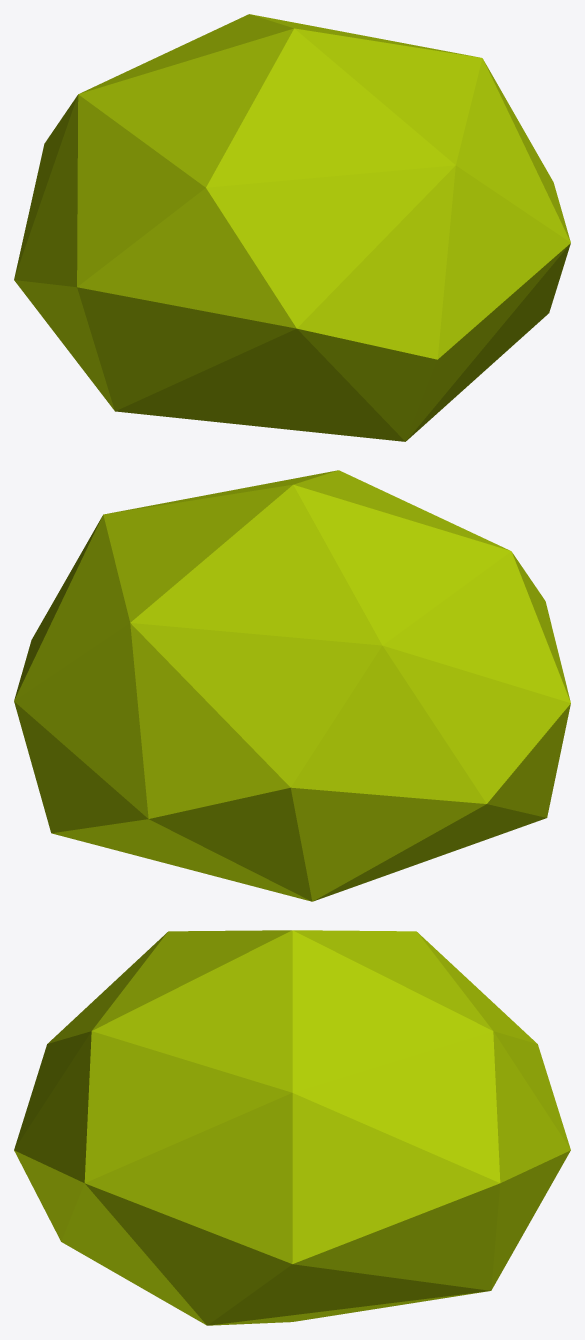
The model's file is Bush_Small_001.fbx.
3 renders of one model, top to bottom at view 1: azimuth 30°, elevation 25°; view 2: azimuth 150°, elevation 25°; view 3: azimuth 270°, elevation 25°, orthographic. The views are drawn at different scales.
Visible parts, largest first — view 1: Bush Small.001; view 2: Bush Small.001; view 3: Bush Small.001.
Part boxes in pixels (<box>): Bush Small.001: <box>14,14,570,441</box>; Bush Small.001: <box>14,470,570,901</box>; Bush Small.001: <box>14,930,570,1325</box>.
Size of the model in its own units: 84.62 by 54.39 by 83.09.
